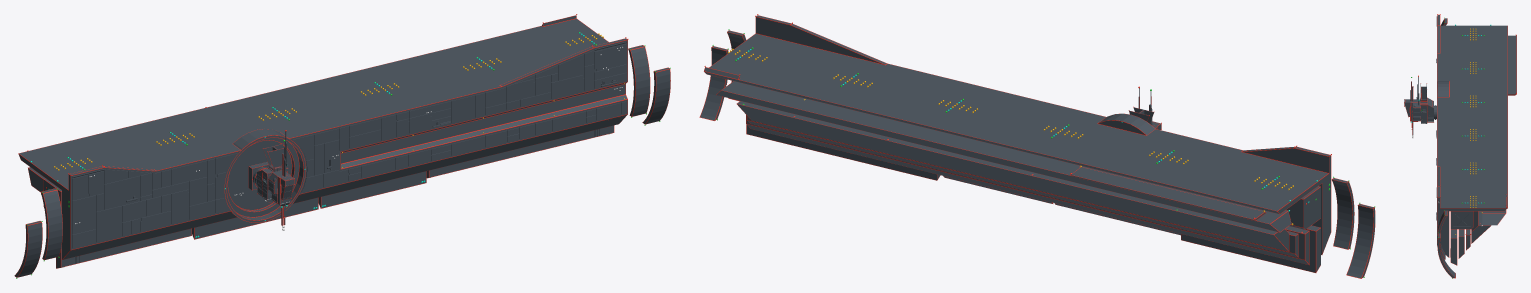
File: TRON_CARRIER.dae
3 renders of one model, left to right at view 1: azimuth 30°, elevation 25°; view 2: azimuth 150°, elevation 25°; view 3: azimuth 270°, elevation 25°, orthographic. The views are drawn at different scales.
Parts seen in each view (by area): view 1: Group25, Group12, Group43, Group6, Group10, Group9, Group26, Group11; view 2: Group25, Group7, Group29, Group43, Group8, Group11, Group10, Group12, Group13; view 3: Group25, Group6, Group7, Group8, Group13, Group12, Group29, Group10.
Boxes of the visible parts, x1,y1,x2,y2 form: Group25: (18,15,627,259); Group12: (628,45,670,124); Group43: (14,188,62,277); Group6: (248,131,294,225); Group10: (426,125,614,178); Group9: (318,171,426,208); Group26: (192,197,318,239); Group11: (56,228,191,268); Group25: (704,15,1331,254); Group7: (736,101,1309,265); Group29: (716,81,1291,232); Group43: (1331,178,1375,278); Group8: (1070,167,1265,220); Group11: (1181,225,1320,272); Group10: (746,124,940,180); Group12: (699,30,746,120); Group13: (1286,186,1320,229); Group25: (1436,14,1507,257); Group6: (1404,77,1436,134); Group7: (1458,211,1491,258); Group8: (1508,35,1516,95); Group13: (1450,211,1473,229); Group12: (1437,210,1455,278); Group29: (1482,210,1506,225); Group10: (1450,229,1457,265).
Size of the model in its own units: 122465 by 20196 by 27701.
19 materials, 7 textured.
